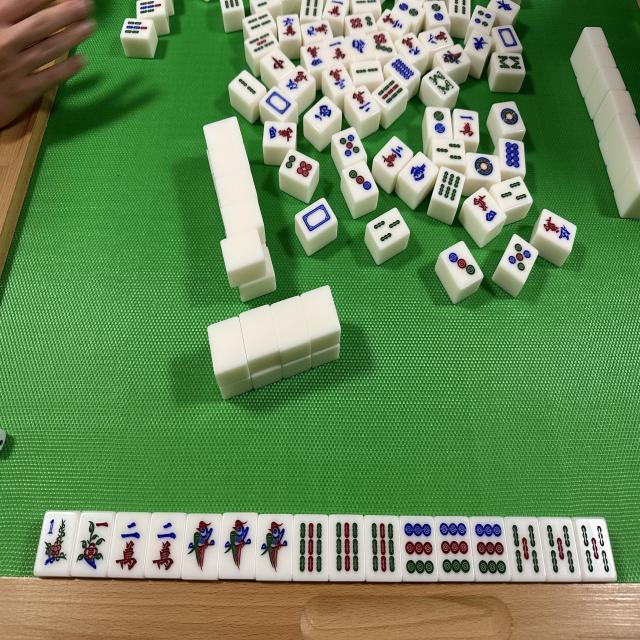bf1: (42, 516, 70, 572)
bs1: (74, 516, 110, 570)
sb1: (222, 518, 254, 570), (186, 518, 216, 572), (259, 520, 290, 572)
sb5: (544, 522, 578, 577), (510, 520, 542, 576), (580, 522, 612, 575)
sb9: (295, 520, 326, 576), (366, 520, 396, 576), (331, 520, 362, 574)
sc2: (112, 518, 142, 571), (151, 518, 179, 572)
sd9: (473, 519, 507, 577), (438, 520, 472, 576), (403, 519, 435, 574)
